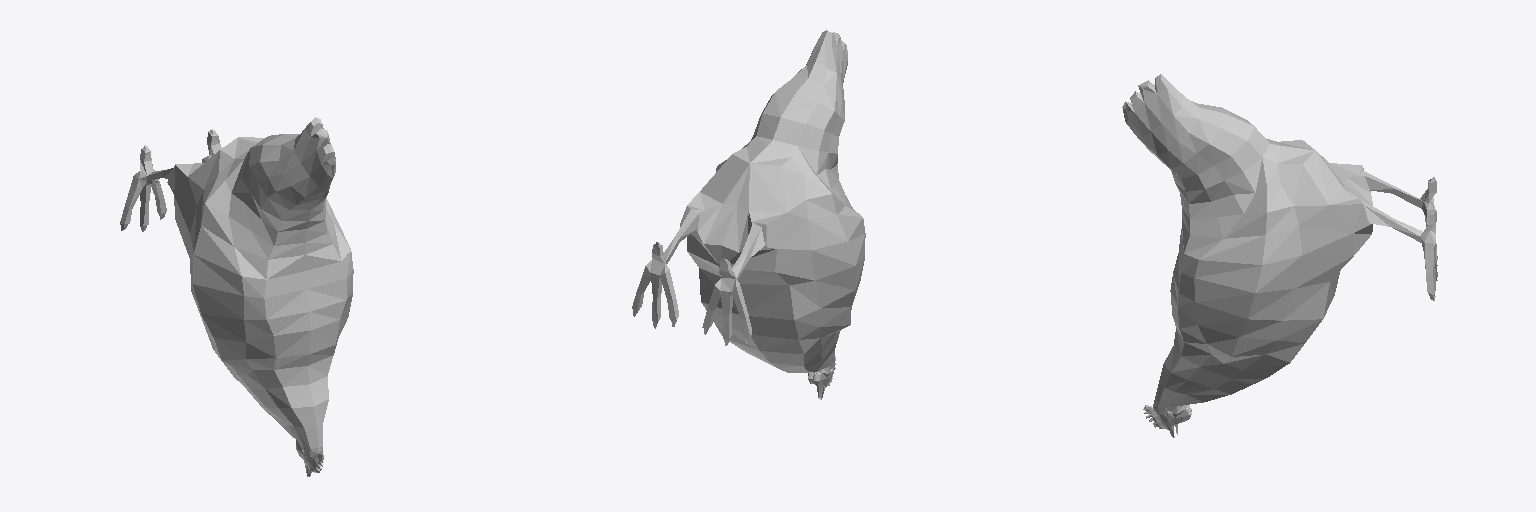
Rendered from huhn_braun.obj.
3 renders of one model, left to right at view 1: azimuth 30°, elevation 25°; view 2: azimuth 150°, elevation 25°; view 3: azimuth 270°, elevation 25°, orthographic.
Parts seen in each view (by area): view 1: Huhn_braun; view 2: Huhn_braun; view 3: Huhn_braun.
Boxes of the visible parts, x1,y1,x2,y2 form: Huhn_braun: [120, 117, 353, 476]; Huhn_braun: [632, 30, 865, 399]; Huhn_braun: [1122, 74, 1437, 437].
Bounding box in the file's own units: 0.0058 × 0.0134 × 0.0105.